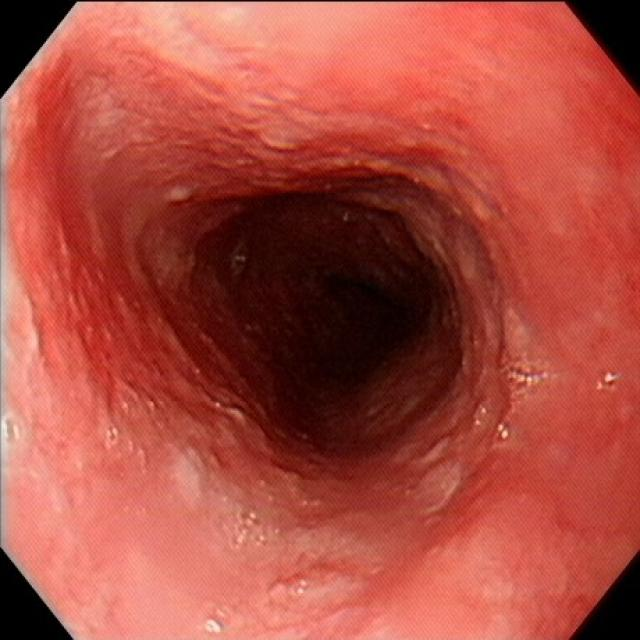A: (202, 102, 419, 193)
E: (218, 199, 442, 428)
J: (9, 254, 47, 382), (399, 439, 463, 514), (174, 445, 215, 506)
T: (231, 506, 279, 553), (500, 356, 559, 393)
